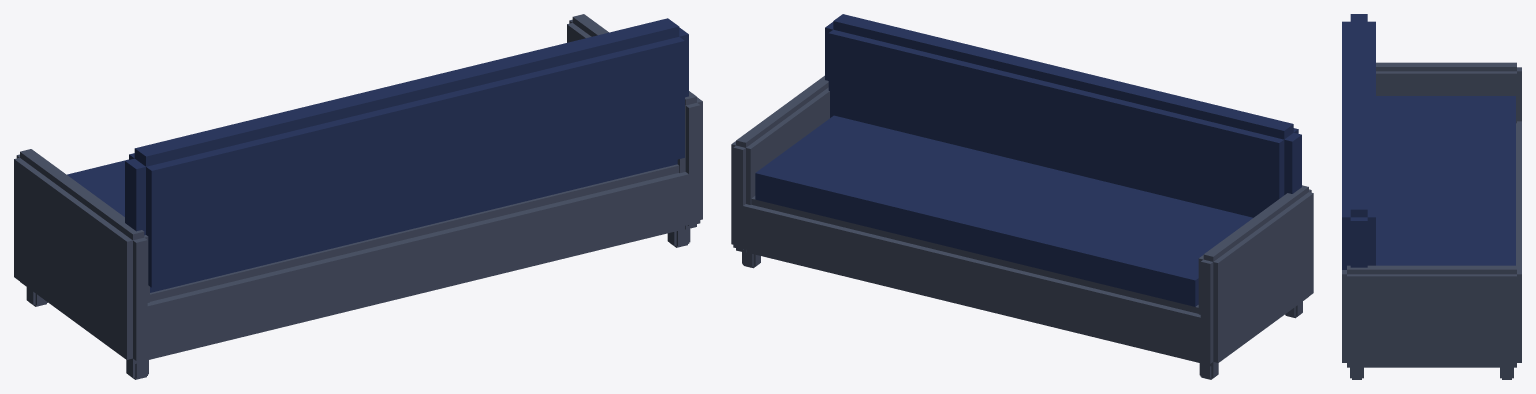
Rendered from granite_sofa_v0.glb.
3 views of the same model, side by side, from view 1: azimuth 30°, elevation 25°; view 2: azimuth 150°, elevation 25°; view 3: azimuth 270°, elevation 25° (orthographic). The views are drawn at different scales.
Parts seen in each view (by area): view 1: granite_sofa_v0; view 2: granite_sofa_v0; view 3: granite_sofa_v0.
Part boxes in pixels (<box>): granite_sofa_v0: <box>14,14,702,379</box>; granite_sofa_v0: <box>731,14,1313,379</box>; granite_sofa_v0: <box>1342,14,1521,379</box>.
Bounding box in the file's own units: 2.5 × 0.92 × 0.9.
